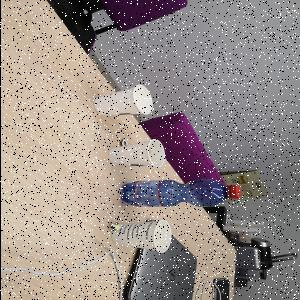Cup: (111, 221, 173, 255), (93, 86, 153, 118), (107, 139, 166, 170), (243, 227, 261, 237), (247, 221, 265, 229)
Plastic-bottle: (120, 179, 242, 209)
